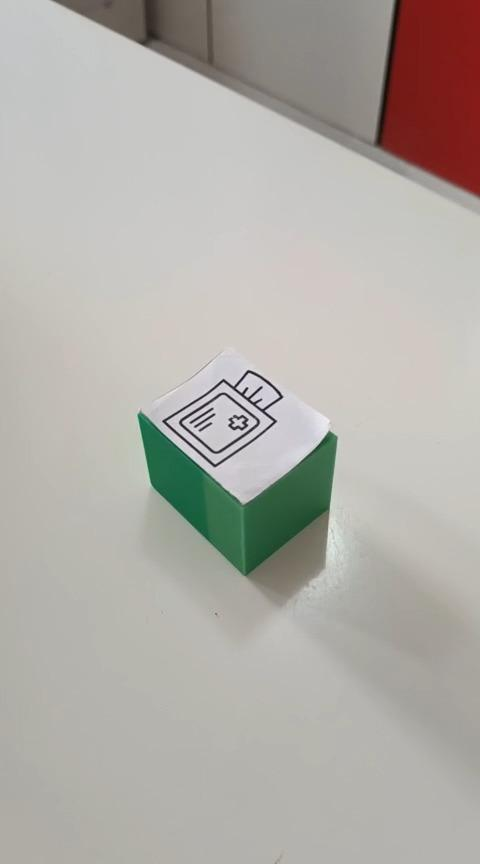Gauze: (136, 346, 338, 576)
